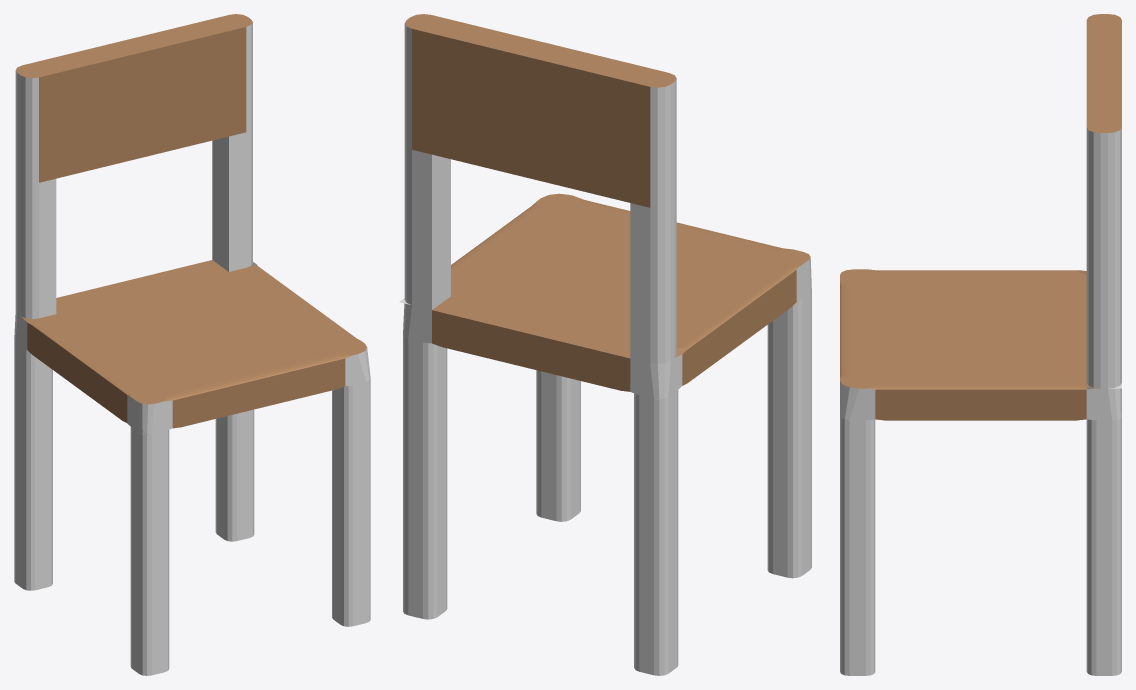
Rendered from School Chair low poly 1.fbx.
The picture shows the model from 3 angles, left to right: view 1: azimuth 30°, elevation 25°; view 2: azimuth 150°, elevation 25°; view 3: azimuth 270°, elevation 25°; orthographic projection. The views are drawn at different scales.
Visible parts, largest first — view 1: Cube; view 2: Cube; view 3: Cube.
Part boxes in pixels (x1,y1,x2,y2): Cube: (14, 14, 370, 675); Cube: (399, 14, 811, 675); Cube: (840, 14, 1121, 675).
Bounding box in the file's own units: 200 × 425 × 200.
